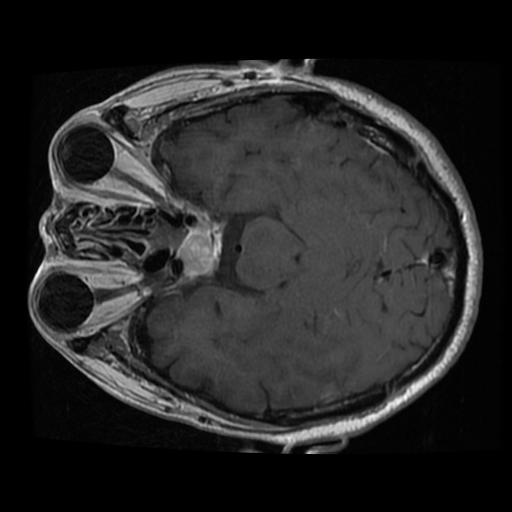pituitary tumour: (177, 224, 210, 275)
